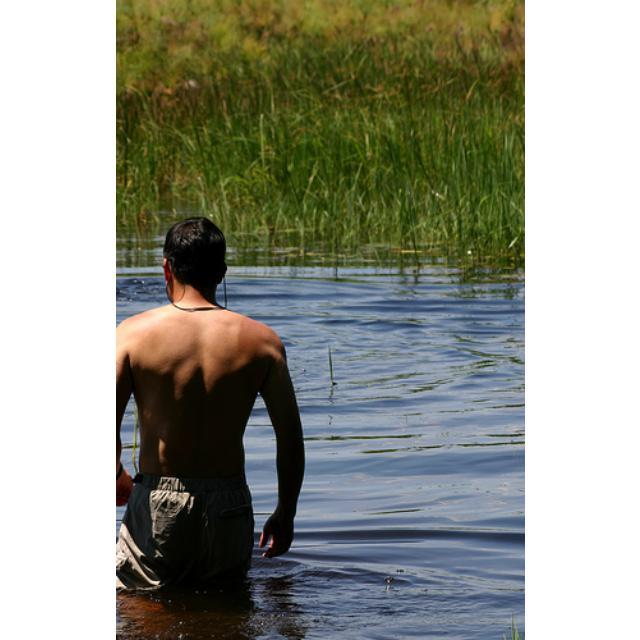human: (116, 214, 304, 590)
